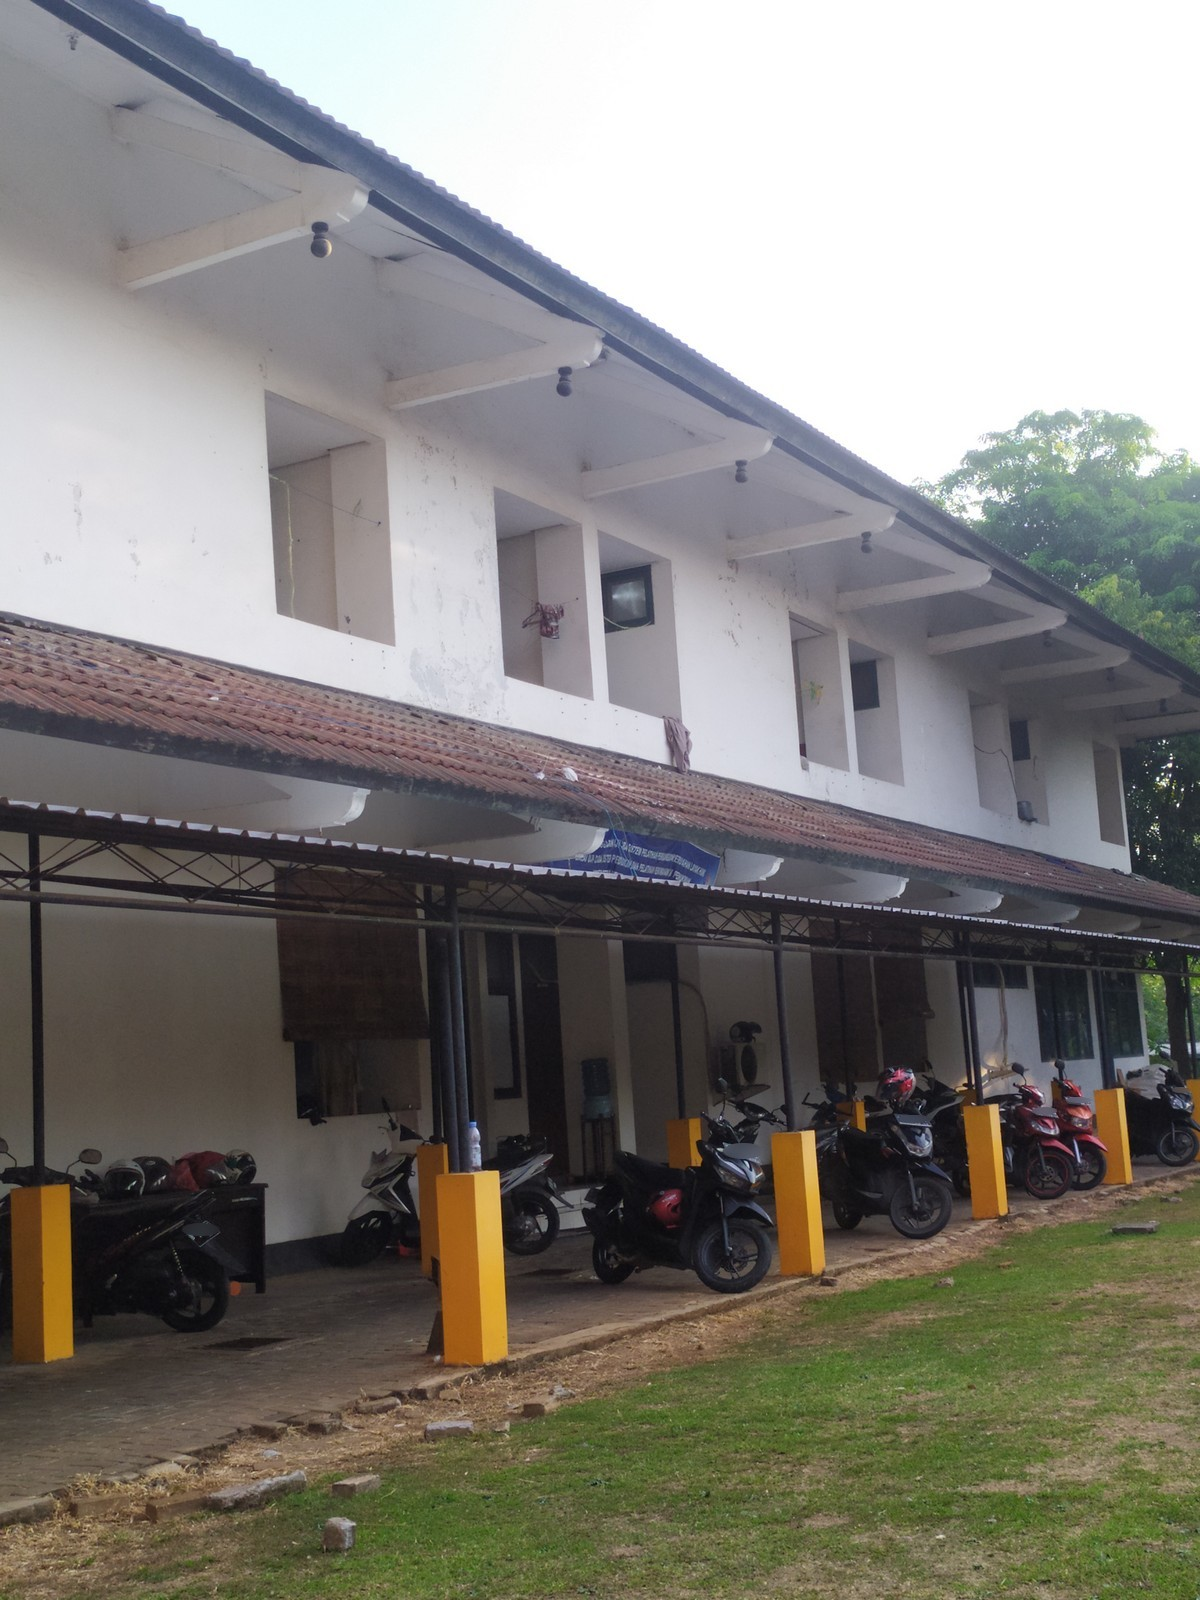concrete beam: (122, 200, 310, 304), (379, 346, 558, 414), (575, 443, 727, 508), (720, 511, 850, 569), (829, 580, 949, 617)
concrete column: (429, 1169, 518, 1372), (8, 1174, 79, 1364), (765, 1125, 829, 1277), (958, 1100, 1011, 1225), (1092, 1082, 1137, 1191)
